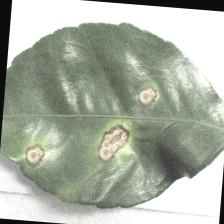canker: (10, 73, 170, 182)
